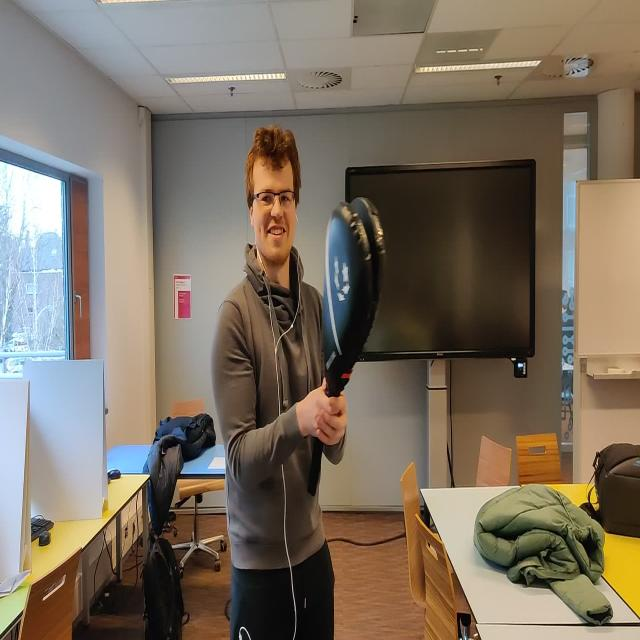paddle: (323, 195, 386, 396)
